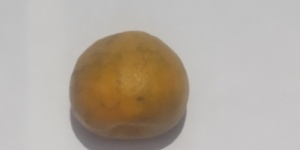BAD: (68, 31, 189, 142)
